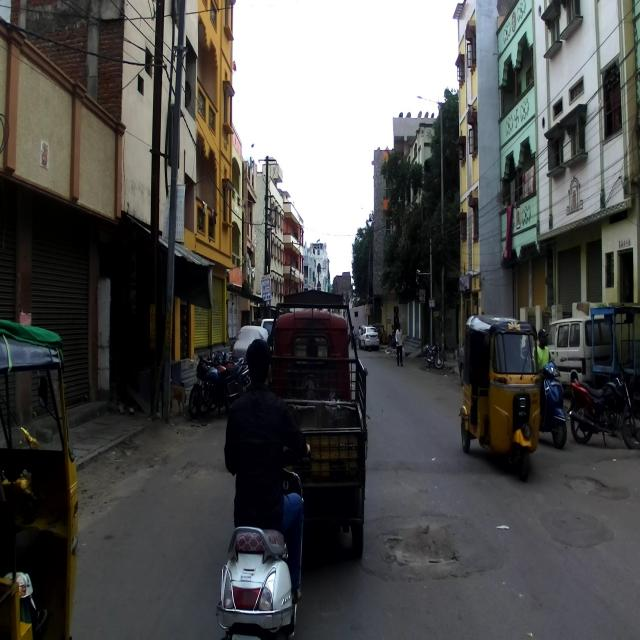autorickshaw: (262, 277, 368, 545), (458, 313, 541, 480)
car: (546, 314, 618, 404)
motorcycle: (566, 361, 640, 449), (187, 354, 244, 422)
scooter: (216, 512, 308, 640), (534, 360, 568, 450)
